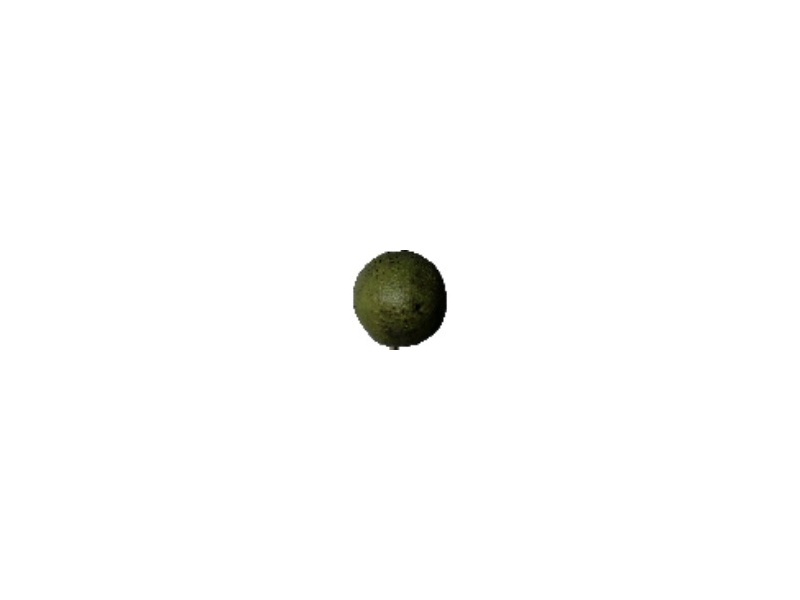abacate: (351, 247, 448, 347)
